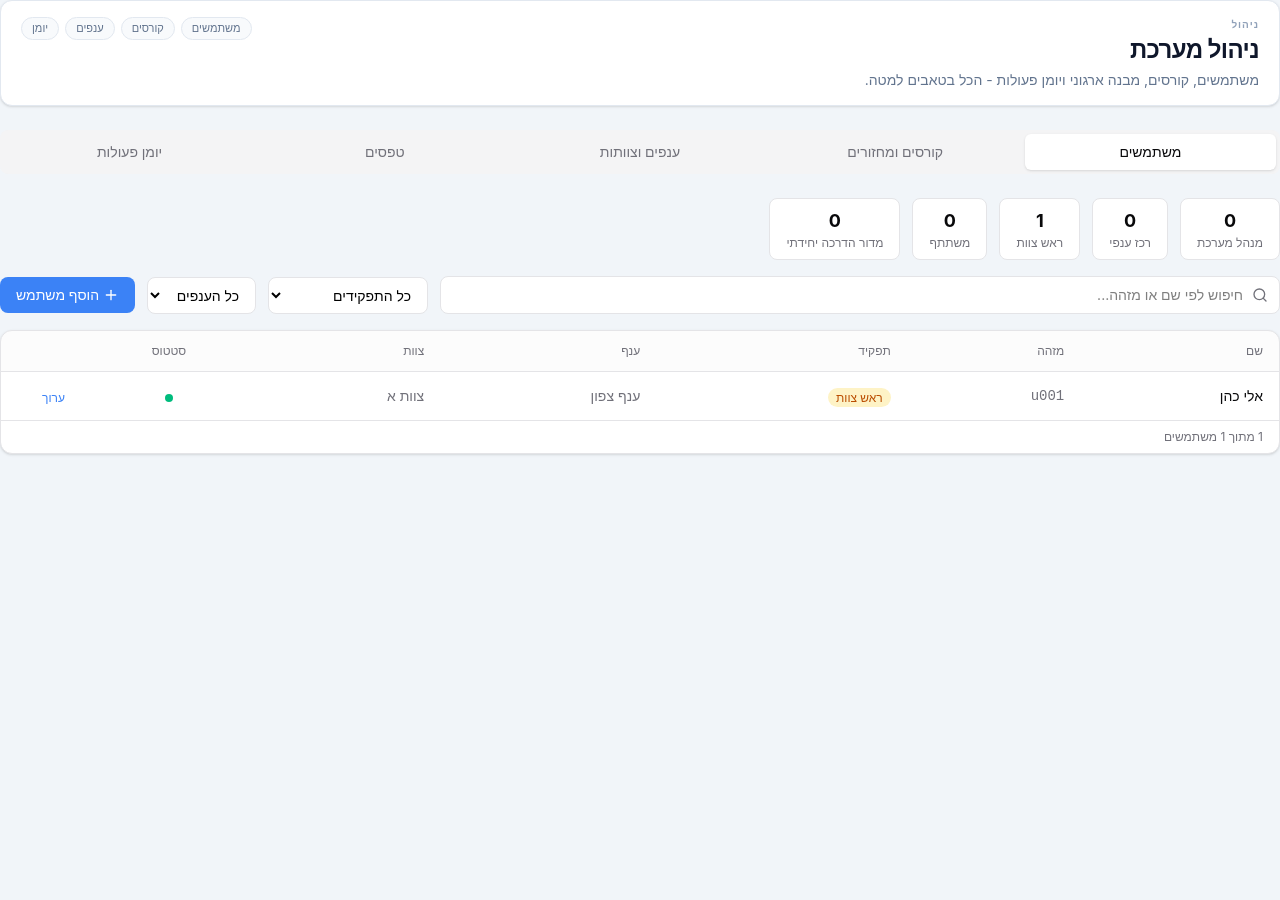
it: Admin page › edit user row opens edit modal
Expected: the text "אלי כהן" is shown, [1080,372,1279,420]
Click the button "ערוך" at (54, 398), box [42,390,65,406]
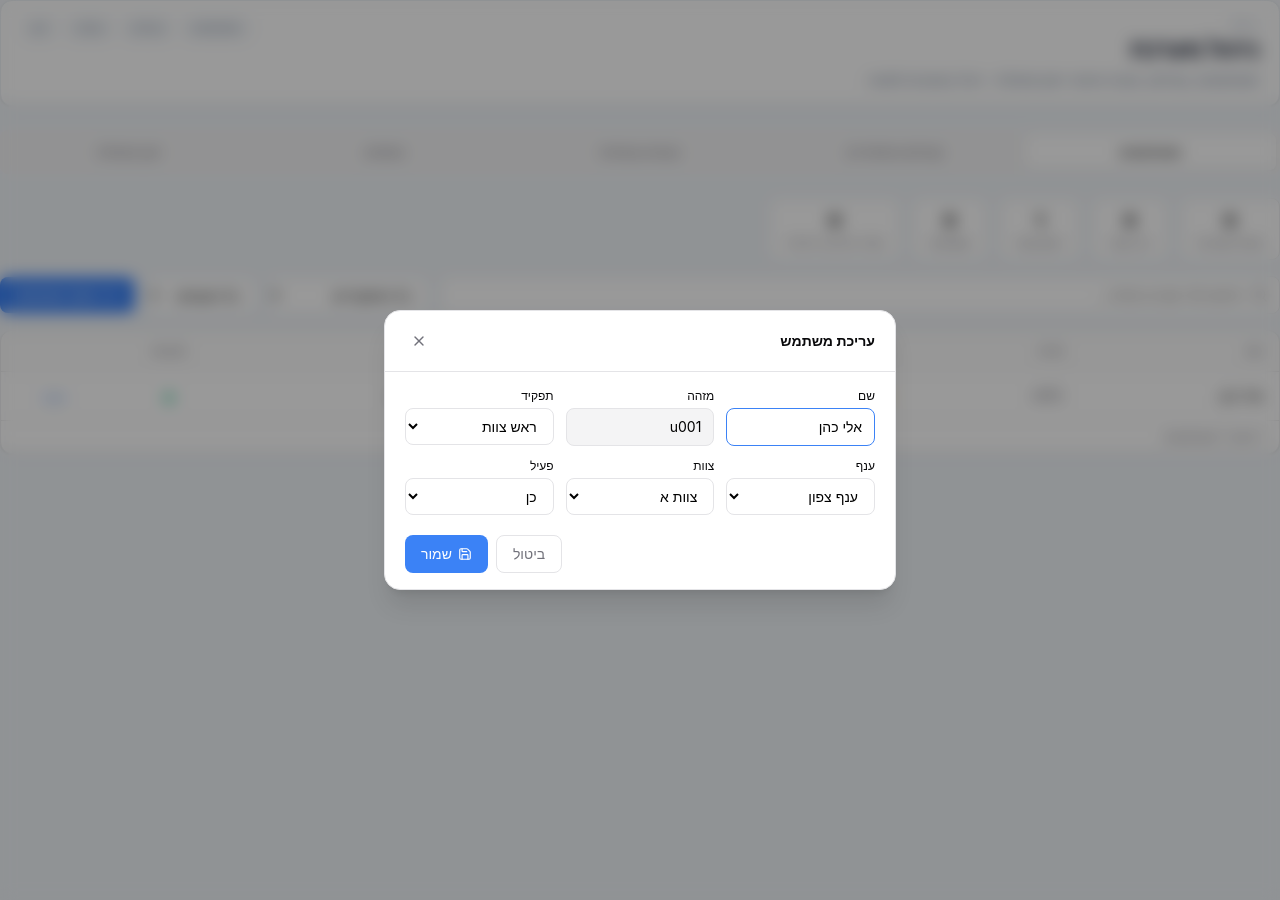
Now the dialog is shown, box [384,310,896,590]
Now the heading "עריכת משתמש" is shown, box [780,331,875,351]
